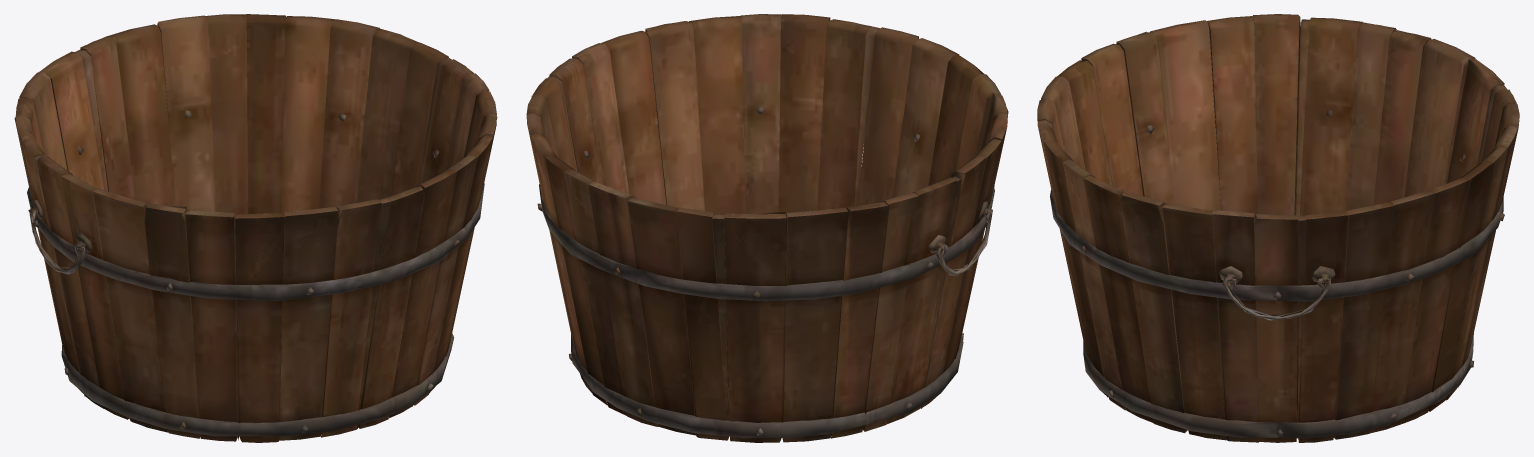
Rendered from wooden_bucket_02.glb.
3 views of the same model, side by side, from view 1: azimuth 30°, elevation 25°; view 2: azimuth 150°, elevation 25°; view 3: azimuth 270°, elevation 25° (orthographic).
Visible parts, largest first — view 1: wooden_bucket_02, wooden_bucket_02_handle_01; view 2: wooden_bucket_02, wooden_bucket_02_handle_01; view 3: wooden_bucket_02, wooden_bucket_02_handle_02.
Part boxes in pixels (box(x1,y1,x2,y2)): wooden_bucket_02: box(14, 14, 497, 442); wooden_bucket_02_handle_01: box(29, 210, 86, 274); wooden_bucket_02: box(526, 14, 1008, 442); wooden_bucket_02_handle_01: box(936, 209, 992, 275); wooden_bucket_02: box(1037, 14, 1519, 442); wooden_bucket_02_handle_02: box(1222, 276, 1331, 320).
Bounding box in the file's own units: 0.6139 × 0.3514 × 0.6146.
Materials: 1 (1 with a texture image).
